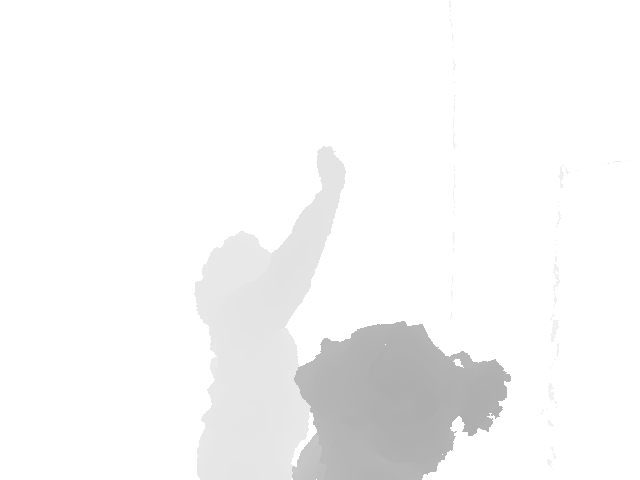hand: (315, 145, 347, 192)
head: (292, 320, 512, 452), (199, 231, 287, 304)
person: (191, 146, 348, 480), (292, 320, 513, 480)
